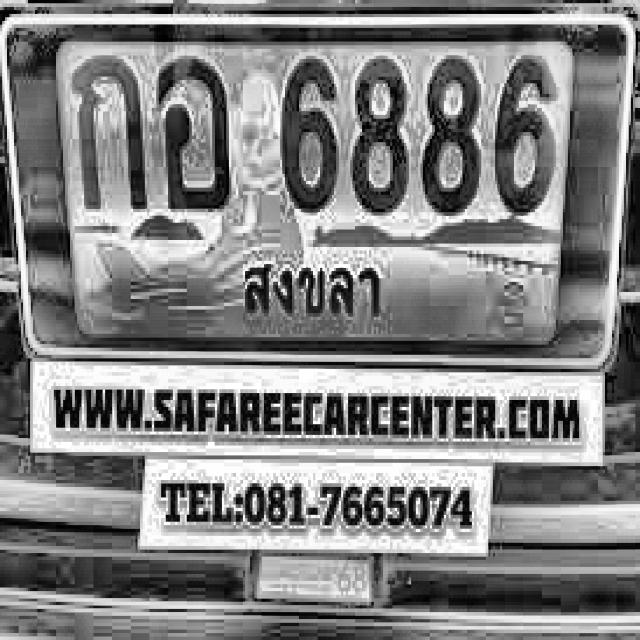license-plate: (0, 8, 640, 374)
